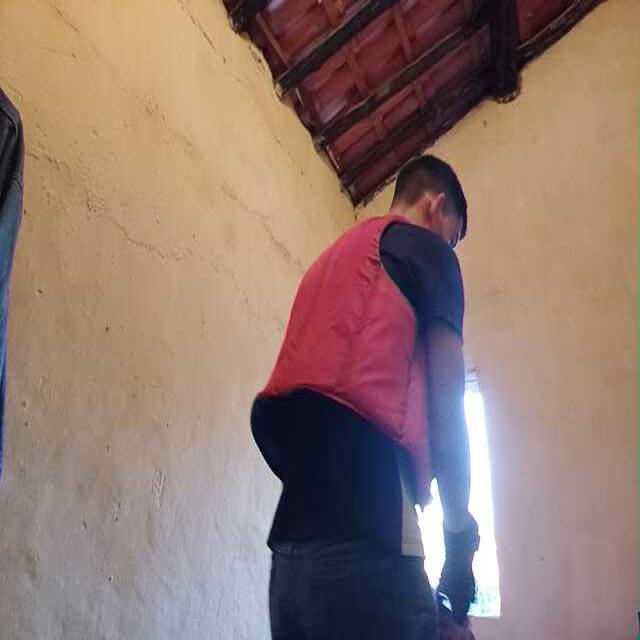colete: (270, 220, 442, 485)
pessoa: (251, 158, 486, 640)
